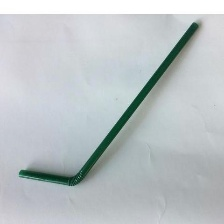drinking_straw: (12, 16, 204, 192)
